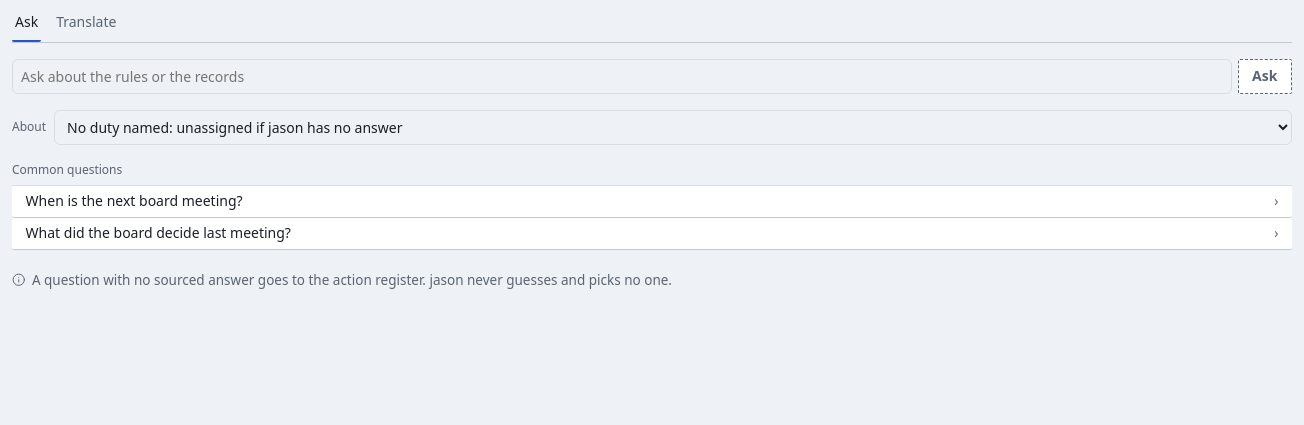
it: AskPanel › a free question is a write behind Confirm; with no duty named the routed task reads as unassigned, never the manager's
This screenshot has width=1304, height=425.
In the field named "Question": [622, 76] box [12,59,1232,94], type "Can we fine without a hearing?"
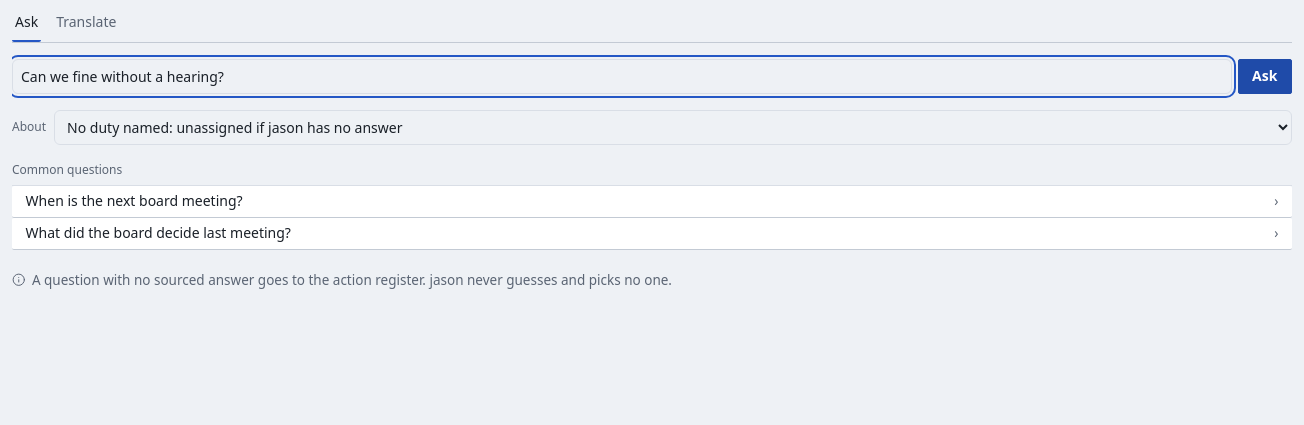
Click the button "Ask": [1265, 76] box [1238,59,1292,94]
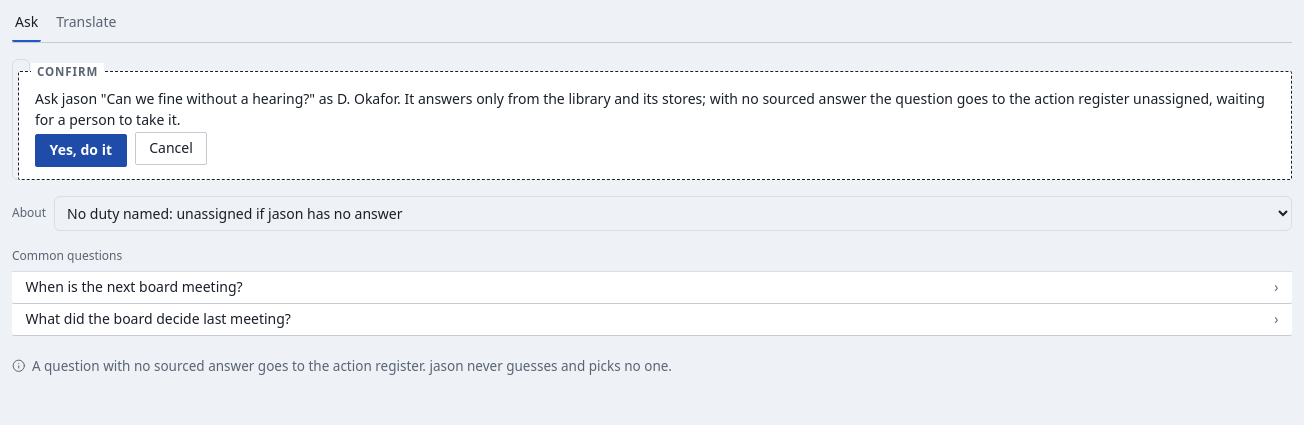
Check: the element "Confirm" shows "unassigned, waiting for a person to take it", box [35,89,1265,129]
Click the button "Yes, do it": [81, 150] box [35,134,127,167]
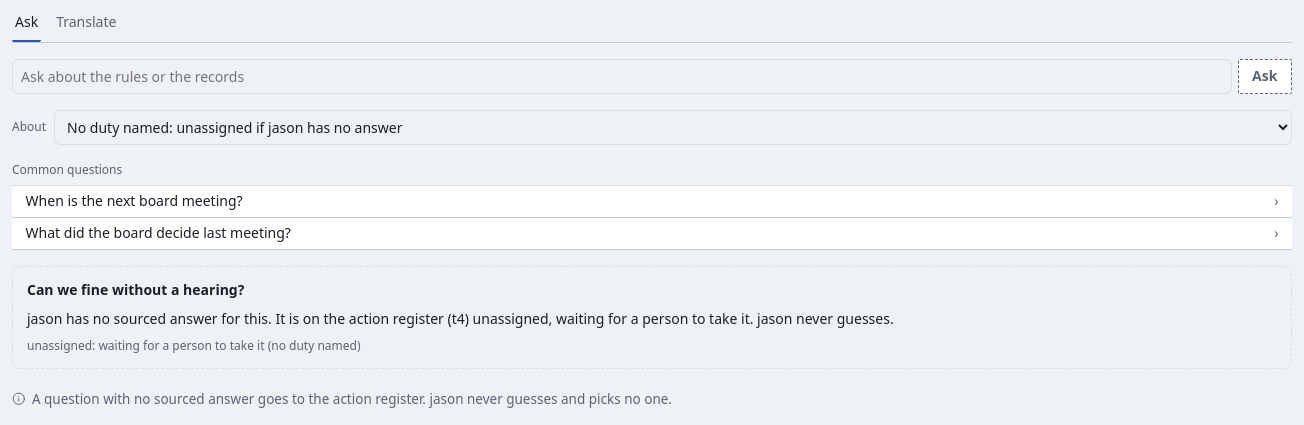
Check: the element "no sourced answer" does not show "manager", box [12,266,1292,369]
Check: the element "no sourced answer" shows "Can we fine without a hearing?", box [27,280,244,299]
Check: the element "no sourced answer" shows "on the action register (t4) unassigned, waiting for a person to take it", box [27,309,754,328]
